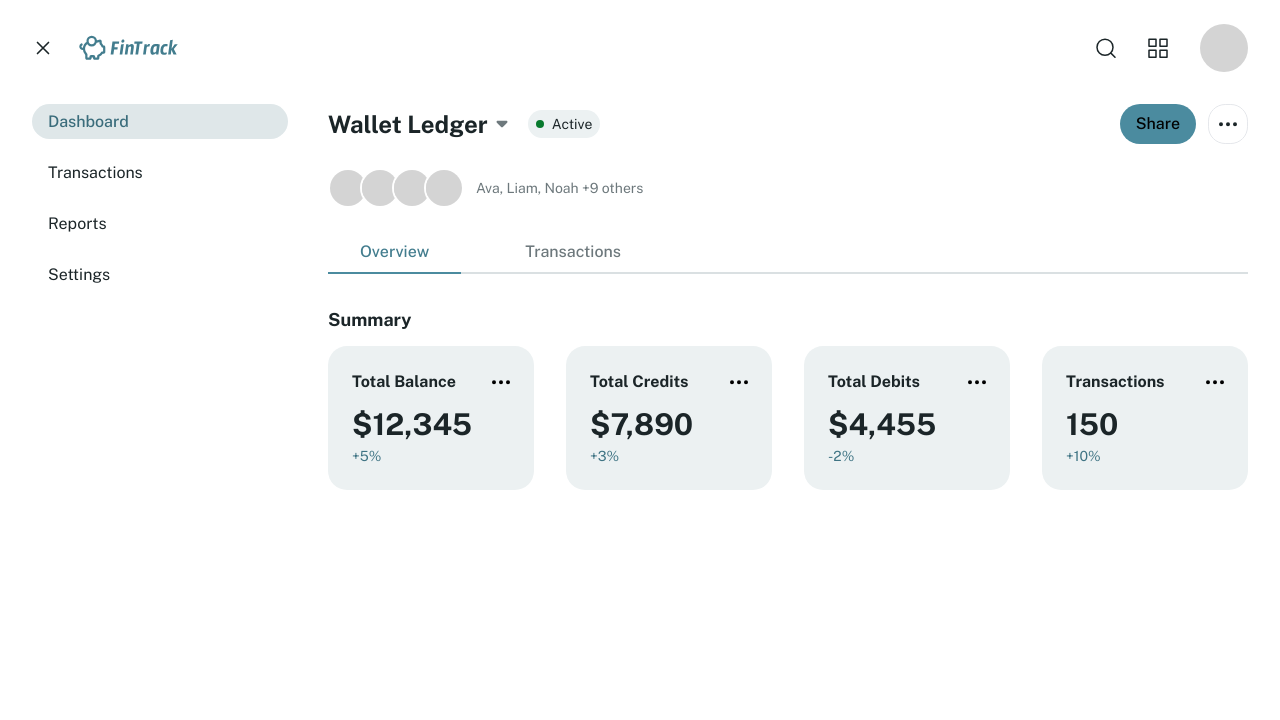
Test: Wallet Ledger Dashboard › TabNavigation Component › should switch tabs when clicked
This screenshot has width=1280, height=720.
Click the tab "Transactions" at (573, 256), box [493, 240, 653, 272]
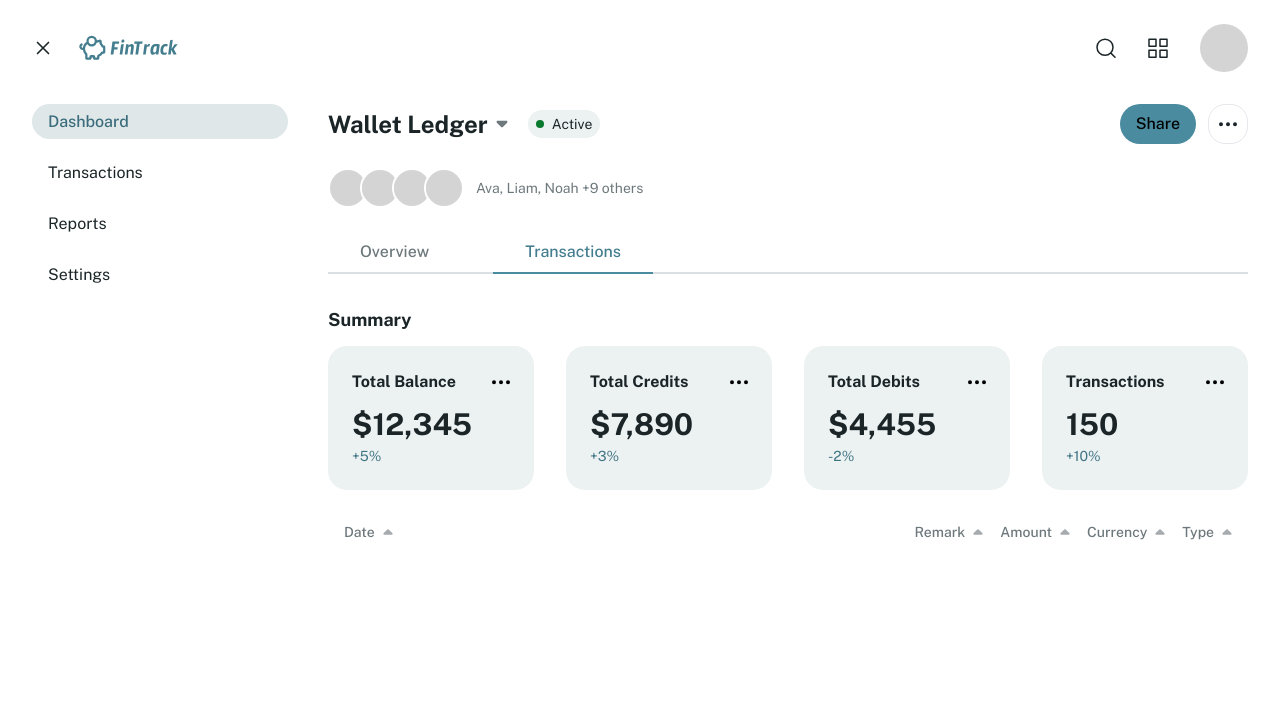
Expected: the element named "Transaction table" is shown, [344, 524, 1232, 540]
